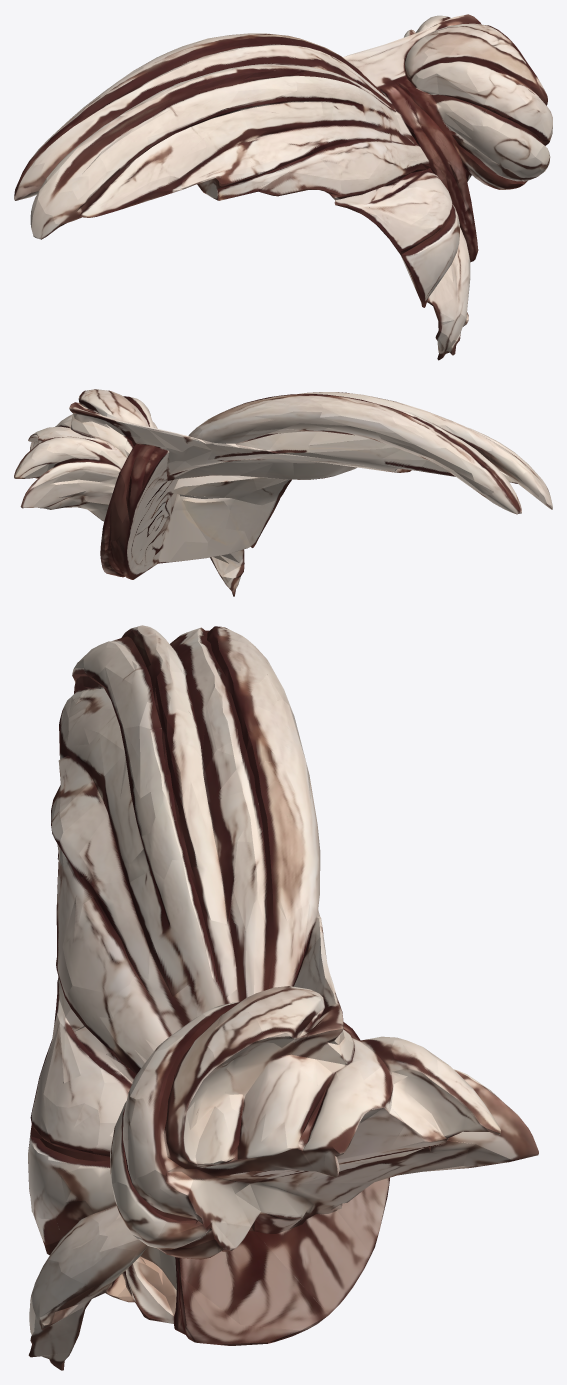
Rendered from thalor_m-chignon-homme-demi-chignon.glb.
3 renders of one model, top to bottom at view 1: azimuth 30°, elevation 25°; view 2: azimuth 150°, elevation 25°; view 3: azimuth 270°, elevation 25°, orthographic. The views are drawn at different scales.
Visible parts, largest first — view 1: geometry_0; view 2: geometry_0; view 3: geometry_0.
Boxes of the visible parts, left/top/right/bottom form: geometry_0: left=14, top=14, right=552, bottom=360; geometry_0: left=14, top=389, right=552, bottom=596; geometry_0: left=28, top=625, right=538, bottom=1370.
Bounding box in the file's own units: 0.8242 × 0.4559 × 0.3915.
1 material, 1 textured.
